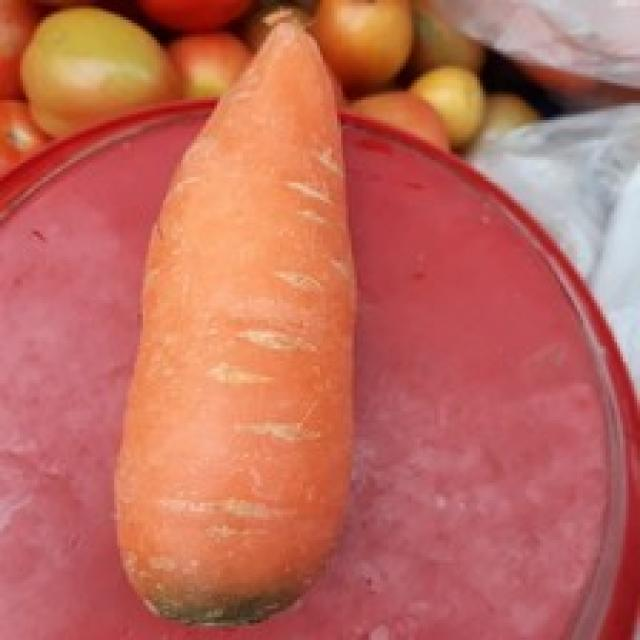carrot: (116, 21, 355, 623)
